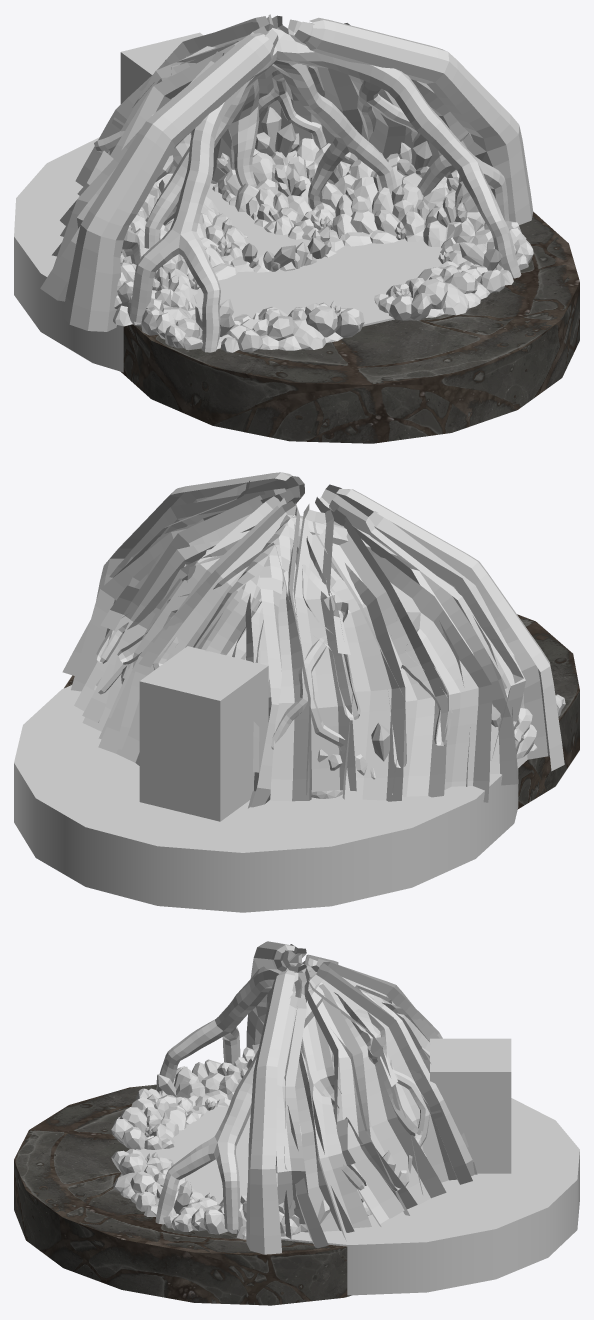
Rendered from Level_3_Mesh.FBX.
3 views of the same model, one above another, from view 1: azimuth 30°, elevation 25°; view 2: azimuth 150°, elevation 25°; view 3: azimuth 270°, elevation 25° (orthographic). The views are drawn at different scales.
Parts seen in each view (by area): view 1: Level 3 trunks 1, Platform003, Level 3 Rocks, Level 3 platform, Level 3 trunks 2, Crystal group, Final chamber, Object001; view 2: Level 3 trunks 1, Level 3 platform, Level 3 trunks 2, Final chamber, Platform003, Level 3 Rocks, Crystal group; view 3: Level 3 trunks 1, Platform003, Level 3 platform, Level 3 trunks 2, Level 3 Rocks, Final chamber, Crystal group.
Boxes of the visible parts, <box> form: Level 3 trunks 1: <box>40,17,533,352</box>; Platform003: <box>121,212,579,443</box>; Level 3 Rocks: <box>113,138,534,352</box>; Level 3 platform: <box>14,137,442,372</box>; Level 3 trunks 2: <box>60,14,396,248</box>; Crystal group: <box>120,107,502,336</box>; Final chamber: <box>120,32,203,103</box>; Object001: <box>242,226,331,271</box>; Level 3 trunks 1: <box>62,472,564,802</box>; Level 3 platform: <box>14,685,518,912</box>; Level 3 trunks 2: <box>82,496,405,808</box>; Final chamber: <box>139,646,268,821</box>; Platform003: <box>64,614,579,809</box>; Level 3 Rocks: <box>296,614,565,798</box>; Crystal group: <box>121,663,500,762</box>; Level 3 trunks 1: <box>155,941,417,1254</box>; Platform003: <box>14,1084,351,1305</box>; Level 3 platform: <box>136,1098,579,1295</box>; Level 3 trunks 2: <box>308,958,477,1215</box>; Level 3 Rocks: <box>111,1044,409,1239</box>; Final chamber: <box>430,1038,511,1173</box>; Crystal group: <box>144,1066,426,1213</box>.
Size of the model in its own units: 51.98 by 31.17 by 63.9.
